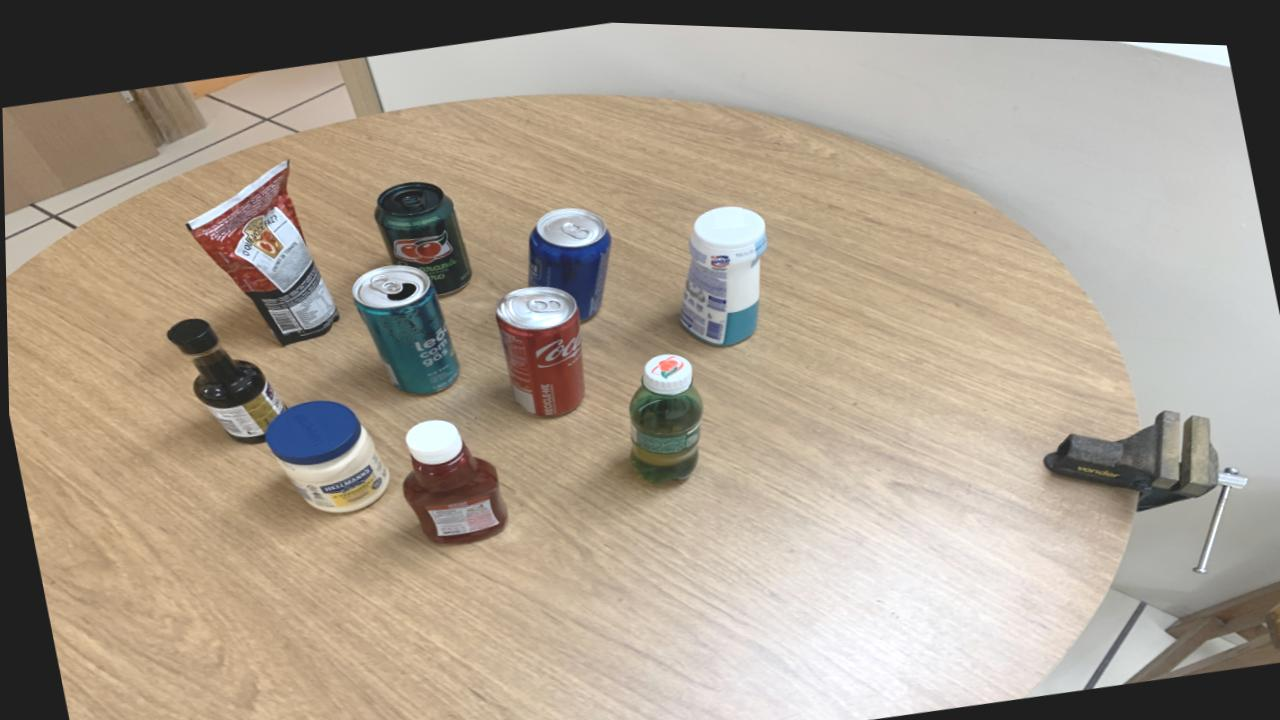Cleaner-Cleanup_Items: (678, 200, 766, 340)
Coke-Drinks: (493, 281, 583, 411)
English_Sauce-Pantry_Items: (165, 316, 283, 441)
Guarana-Drinks: (627, 348, 702, 477)
Guarana_Can-Drinks: (374, 178, 471, 293)
Ketchup-Pantry_Items: (401, 416, 506, 540)
Mayonnaise-Pantry_Items: (262, 397, 388, 511)
Tea-Drinks: (350, 261, 457, 391)
Tomato_Sauce-Pantry_Items: (185, 159, 338, 342)
Tonic-Drinks: (526, 202, 611, 316)
